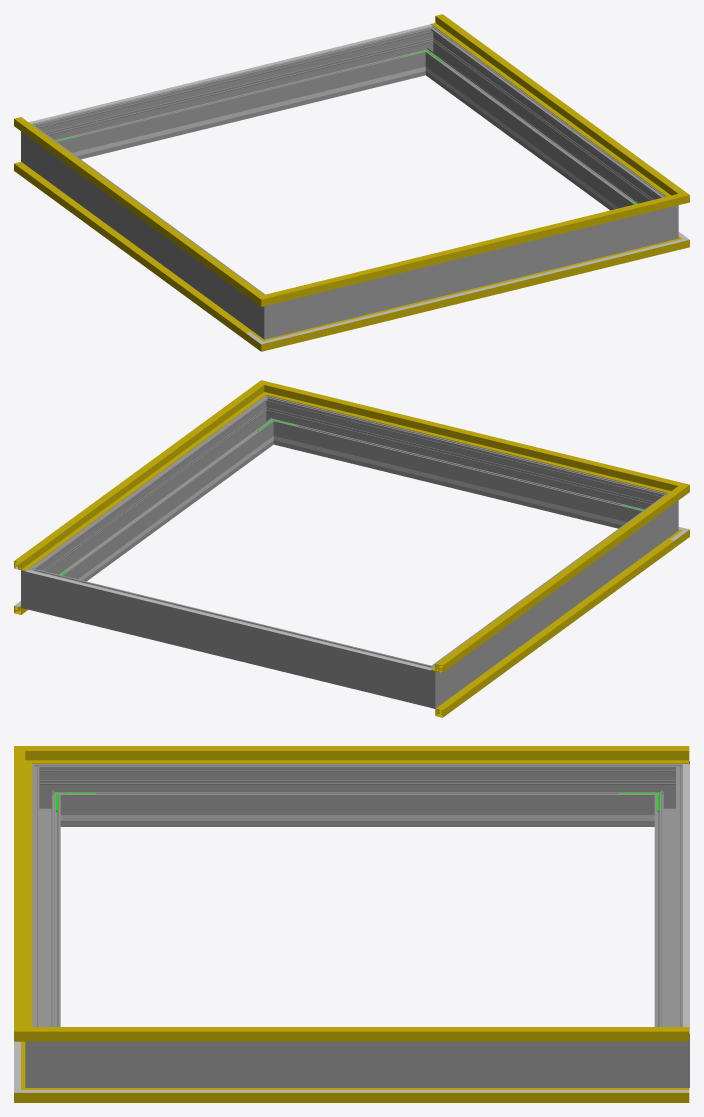
3 views of the same model, one above another, from view 1: azimuth 30°, elevation 25°; view 2: azimuth 150°, elevation 25°; view 3: azimuth 270°, elevation 25° (orthographic). The views are drawn at different scales.
Visible parts, largest first — view 1: 3DGeom-276, 3DGeom-298, 3DGeom-297, 3DGeom-268, 3DGeom-123, 3DGeom-128, 3DGeom-11, 3DGeom-118, 3DGeom-6, 3DGeom-244, 3DGeom-270, 3DGeom-220 (+7 smaller); view 2: 3DGeom-298, 3DGeom-276, 3DGeom-297, 3DGeom-268, 3DGeom-123, 3DGeom-128, 3DGeom-118, 3DGeom-6, 3DGeom-278, 3DGeom-239, 3DGeom-220, 3DGeom-284 (+5 smaller); view 3: 3DGeom-268, 3DGeom-297, 3DGeom-118, 3DGeom-128, 3DGeom-16, 3DGeom-298, 3DGeom-276, 3DGeom-123, 3DGeom-232, 3DGeom-284, 3DGeom-290, 3DGeom-18 (+6 smaller).
Part boxes in pixels (x1,y1,x2,y2): 3DGeom-276: (50,31,421,159); 3DGeom-298: (291,212,651,332); 3DGeom-297: (428,35,658,210); 3DGeom-268: (36,133,257,327); 3DGeom-123: (284,198,663,300); 3DGeom-128: (431,14,673,193); 3DGeom-11: (284,243,663,345); 3DGeom-118: (14,117,252,295); 3DGeom-6: (14,162,252,339); 3DGeom-244: (82,73,399,154); 3DGeom-270: (249,289,290,339); 3DGeom-220: (29,24,432,123); 3DGeom-298: (278,401,649,528); 3DGeom-276: (47,573,413,702); 3DGeom-297: (41,405,271,581); 3DGeom-268: (442,502,662,696); 3DGeom-123: (281,386,662,490); 3DGeom-128: (14,391,257,571); 3DGeom-118: (431,494,674,672); 3DGeom-6: (431,539,674,717); 3DGeom-278: (408,658,450,708); 3DGeom-239: (299,442,617,523); 3DGeom-220: (25,570,432,670); 3DGeom-284: (21,560,52,614); 3DGeom-268: (67,764,647,826); 3DGeom-297: (67,1041,647,1087); 3DGeom-118: (56,746,689,763); 3DGeom-128: (56,1027,689,1041); 3DGeom-16: (56,1088,689,1102); 3DGeom-298: (32,778,60,1026); 3DGeom-276: (654,778,682,1026); 3DGeom-123: (14,764,32,1023); 3DGeom-232: (101,815,613,820); 3DGeom-284: (647,1019,689,1087); 3DGeom-290: (25,1019,67,1087); 3DGeom-18: (56,1090,689,1092).
Bounding box in the file's own units: 2.44 × 0.2836 × 2.44.
